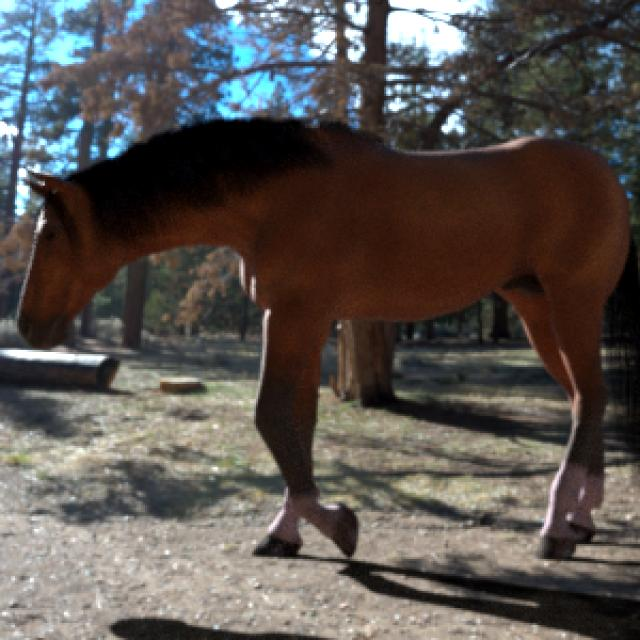horse: (19, 120, 630, 557)
